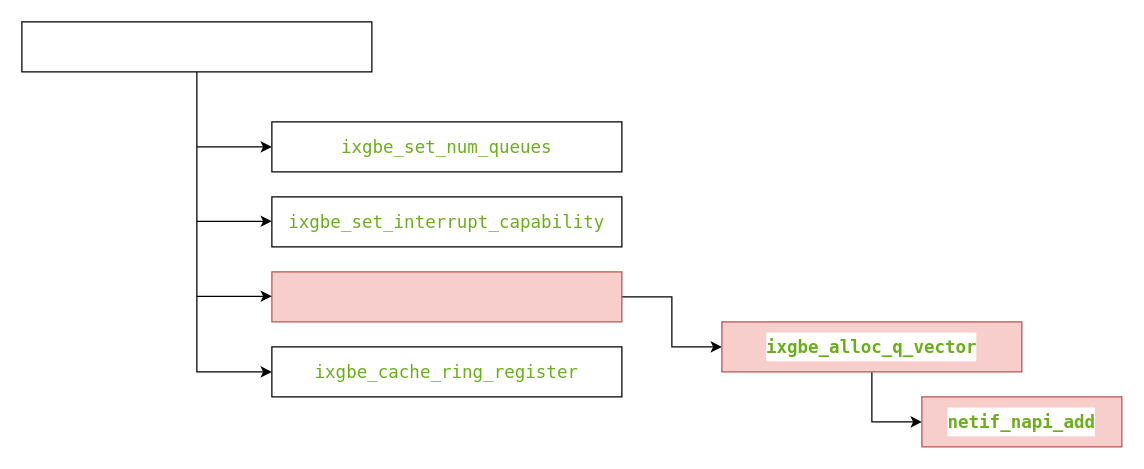
Some shapes in this 1144 by 469 pixel diagram are drawn without their labels. The shapes that lost their labels are listed below. From the top down, each one's box as (x1, y1, x2, y2) in pixels, then its label:
(21, 21, 372, 72): ixgbe_init_interrupt_scheme
(271, 271, 622, 322): ixgbe_alloc_q_vectors
